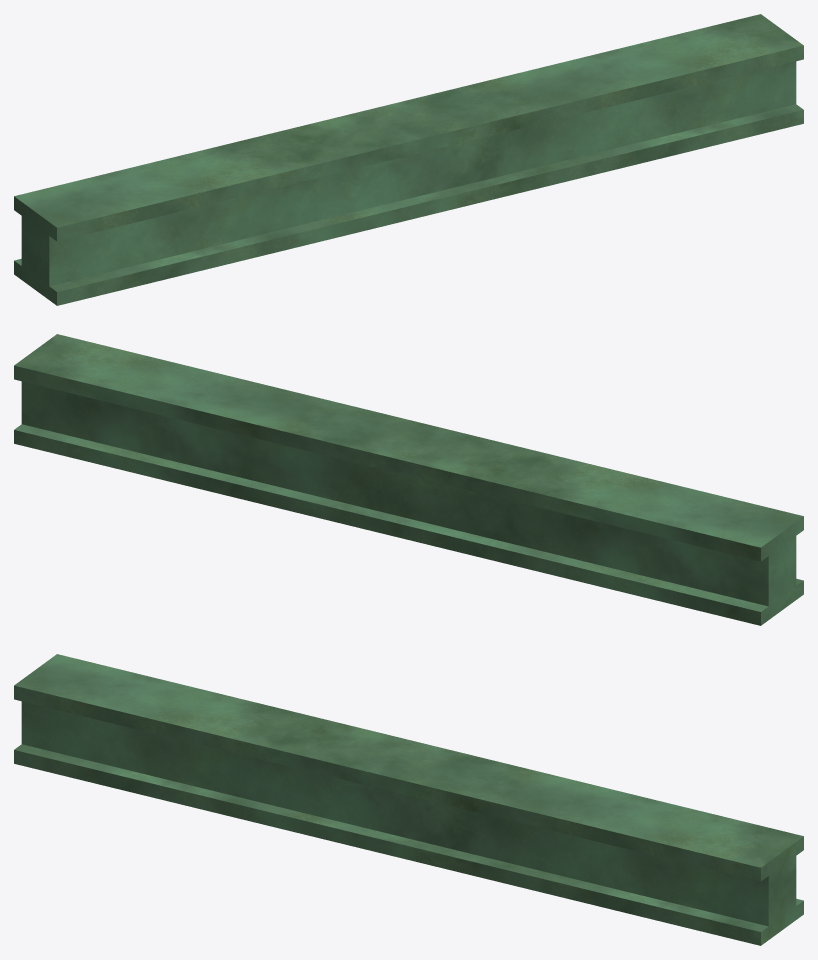
Rendered from Beam_Metal.FBX.
The picture shows the model from 3 angles, top to bottom: view 1: azimuth 30°, elevation 25°; view 2: azimuth 150°, elevation 25°; view 3: azimuth 330°, elevation 25°; orthographic projection.
Parts seen in each view (by area): view 1: Box032; view 2: Box032; view 3: Box032.
Boxes of the visible parts, x1,y1,x2,y2 form: Box032: (14,14,803,305); Box032: (14,334,803,625); Box032: (14,654,803,945).
Bounding box in the file's own units: 300 × 30 × 30.
